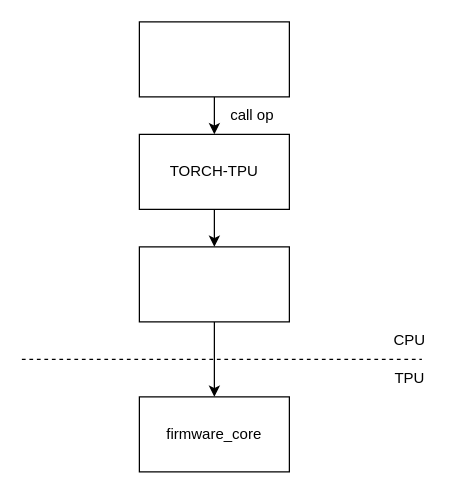
This 463x494 diagram has some shape labels left out. The shapes that lost their labels are listed below. From the top down, each one's centre as x and y in pixels, then its label:
the point at 213,59: PyTorch
the point at 213,284: SGDNN
